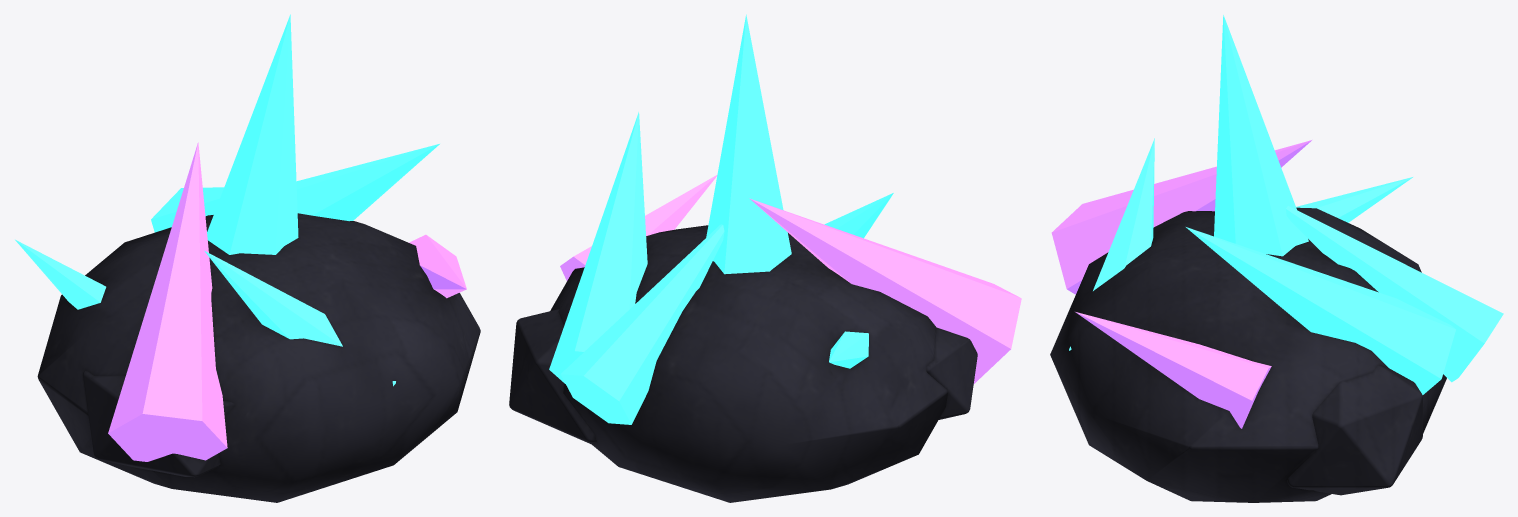
File: debris_shards.glb
3 views of the same model, side by side, from view 1: azimuth 30°, elevation 25°; view 2: azimuth 150°, elevation 25°; view 3: azimuth 270°, elevation 25° (orthographic). The views are drawn at different scales.
Parts seen in each view (by area): view 1: Base, ShardsCyan, ShardsViolet; view 2: Base, ShardsCyan, ShardsViolet; view 3: Base, ShardsCyan, ShardsViolet.
Boxes of the visible parts, left/top/right/bottom form: Base: left=37, top=213, right=480, bottom=502; ShardsCyan: left=15, top=14, right=439, bottom=386; ShardsViolet: left=108, top=142, right=466, bottom=461; Base: left=509, top=225, right=977, bottom=502; ShardsCyan: left=549, top=14, right=893, bottom=424; ShardsViolet: left=560, top=175, right=1021, bottom=383; Base: left=1050, top=207, right=1446, bottom=502; ShardsCyan: left=1069, top=15, right=1503, bottom=394; ShardsViolet: left=1051, top=140, right=1311, bottom=428.
Bounding box in the file's own units: 9.84 × 10.74 × 9.36.
Materials: 3 (1 with a texture image).
